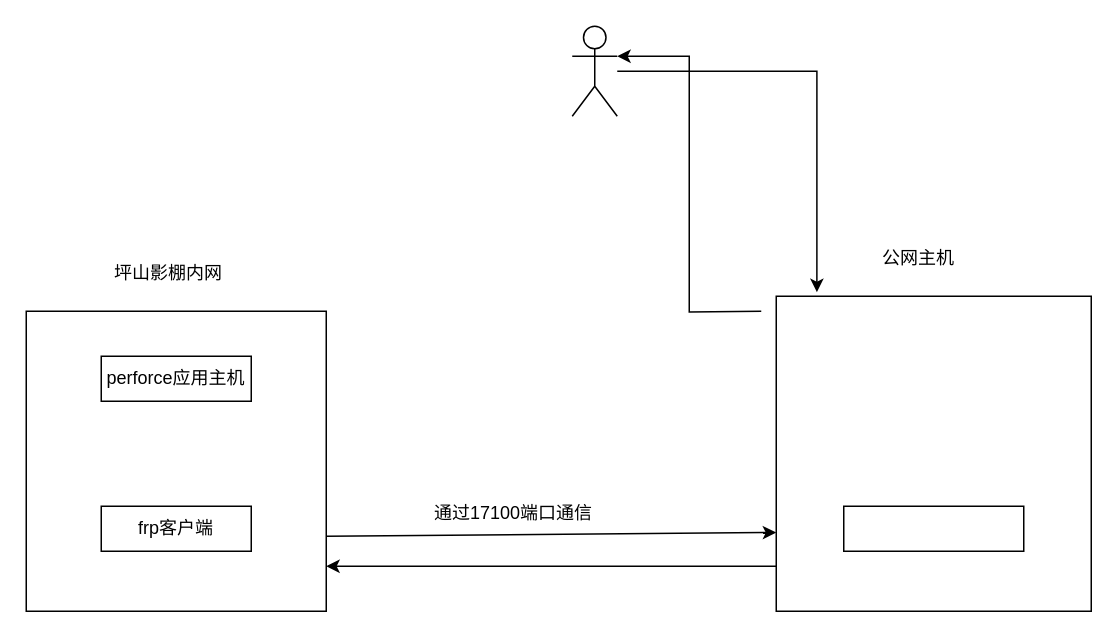
The diagram is 1118 pixels wide and 638 high, and some of its shapes have lost their labels. The box of each missing label's shape, as (x1, y1, x2, y2) in pixels:
Actor: (571, 25, 617, 116)
frp服务端: (842, 505, 1024, 551)
